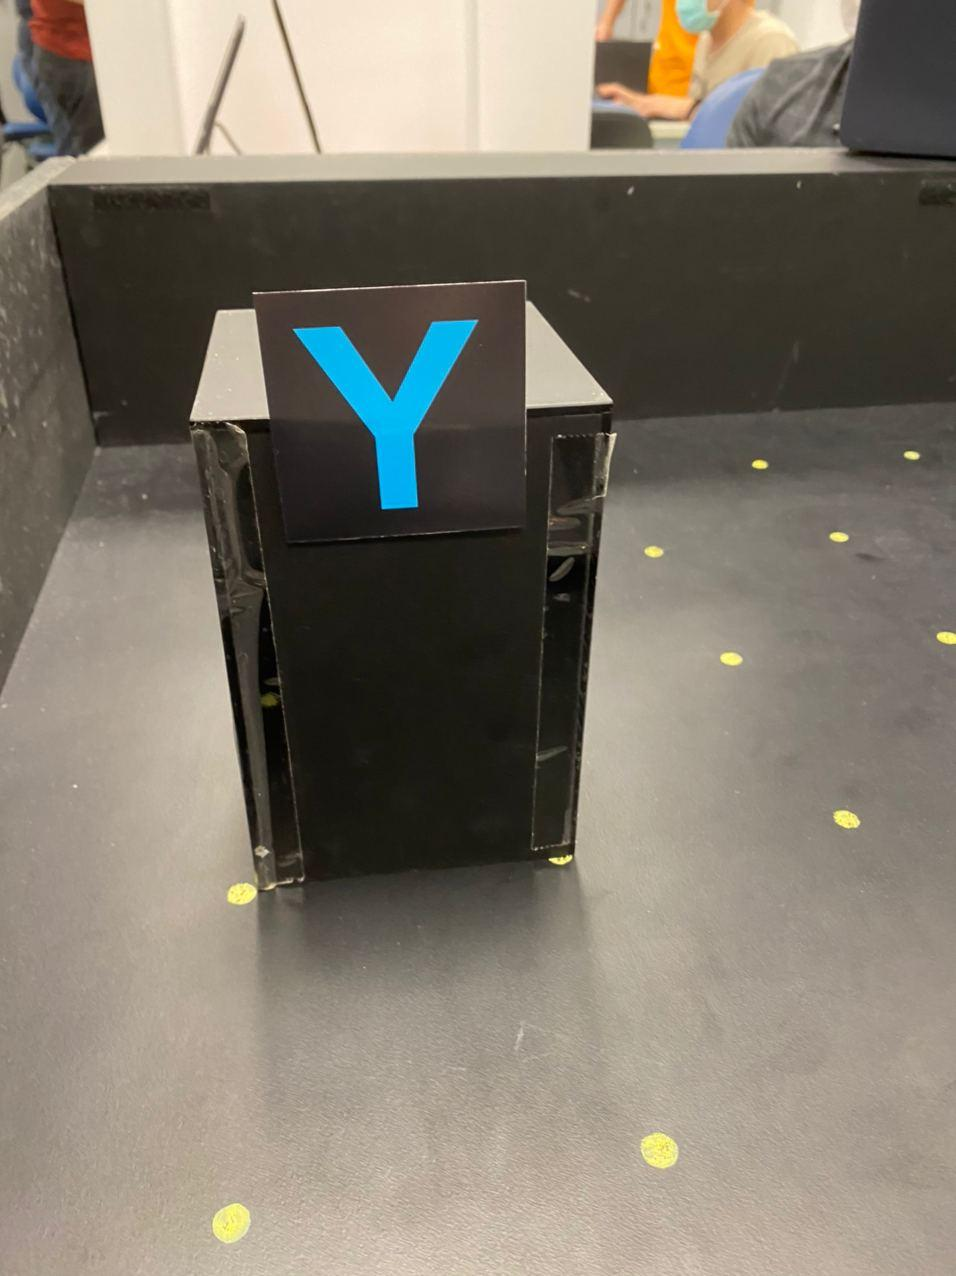y: (285, 311, 498, 521)
